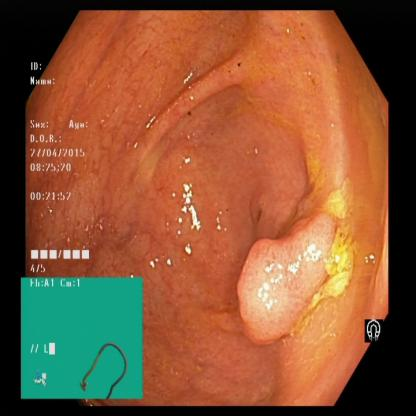Labels: (22, 276, 145, 398), (31, 60, 94, 276), (361, 313, 387, 349)
Polyps: (229, 216, 344, 335)
